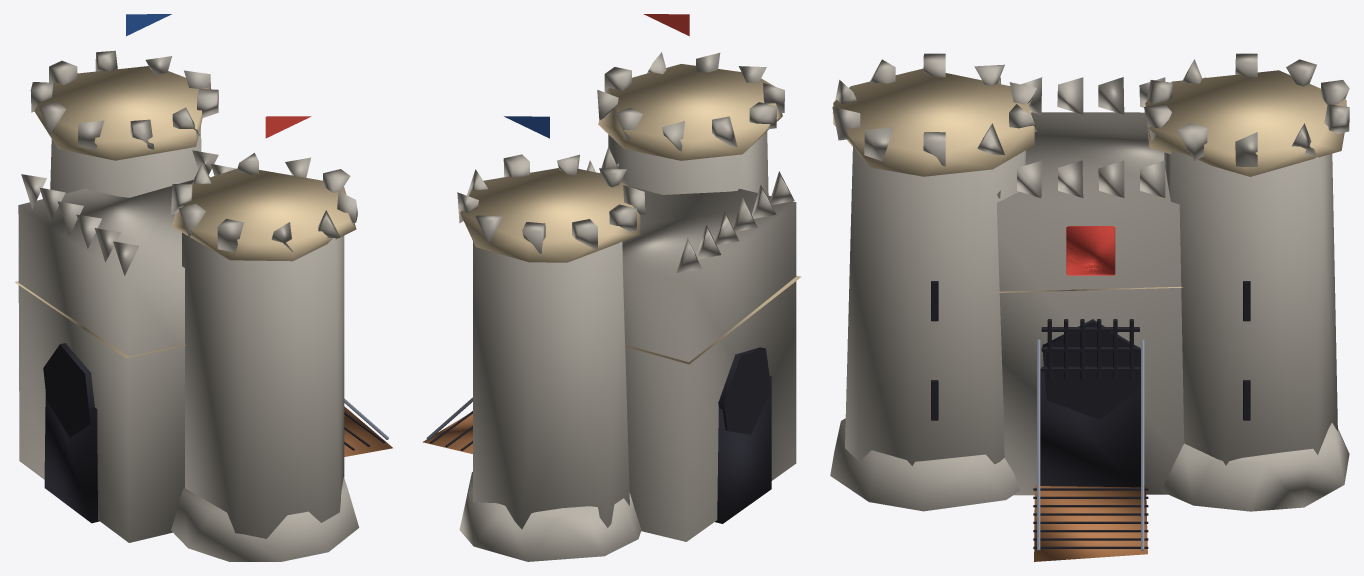
File: castle_gate.glb
The picture shows the model from 3 angles, left to right: view 1: azimuth 30°, elevation 25°; view 2: azimuth 150°, elevation 25°; view 3: azimuth 270°, elevation 25°; orthographic projection. The views are drawn at different scales.
Visible parts, largest first — view 1: castle_gate; view 2: castle_gate; view 3: castle_gate.
Boxes of the visible parts, <box> form: castle_gate: <box>15,14,392,561</box>; castle_gate: <box>422,14,801,561</box>; castle_gate: <box>830,53,1349,561</box>.
Bounding box in the file's own units: 14.17 × 18.48 × 18.98.
Materials: 1 (1 with a texture image).
